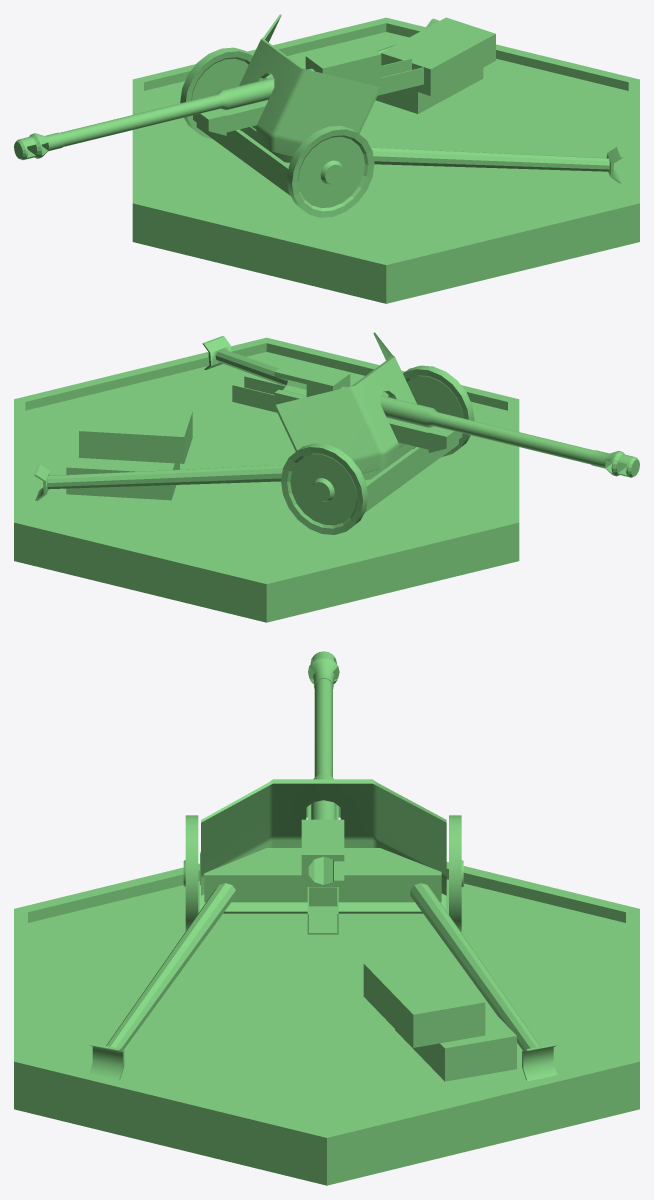
The model's file is pak40.fbx.
3 views of the same model, one above another, from view 1: azimuth 30°, elevation 25°; view 2: azimuth 150°, elevation 25°; view 3: azimuth 270°, elevation 25° (orthographic). The views are drawn at different scales.
Parts seen in each view (by area): view 1: polySurface18; view 2: polySurface18; view 3: polySurface18.
Boxes of the visible parts, x1,y1,x2,y2 form: polySurface18: [14, 14, 639, 303]; polySurface18: [14, 332, 639, 622]; polySurface18: [14, 651, 639, 1185].
Size of the model in its own units: 28.86 by 6.79 by 20.36.
